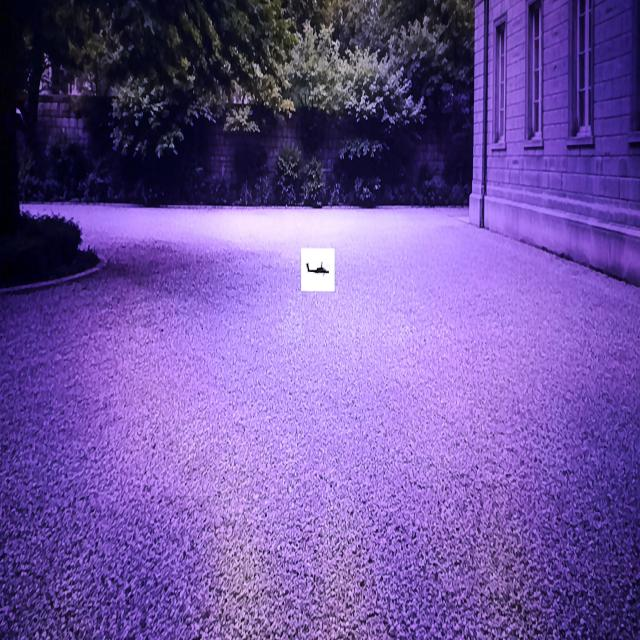Apache friendly: (306, 262, 330, 273)
